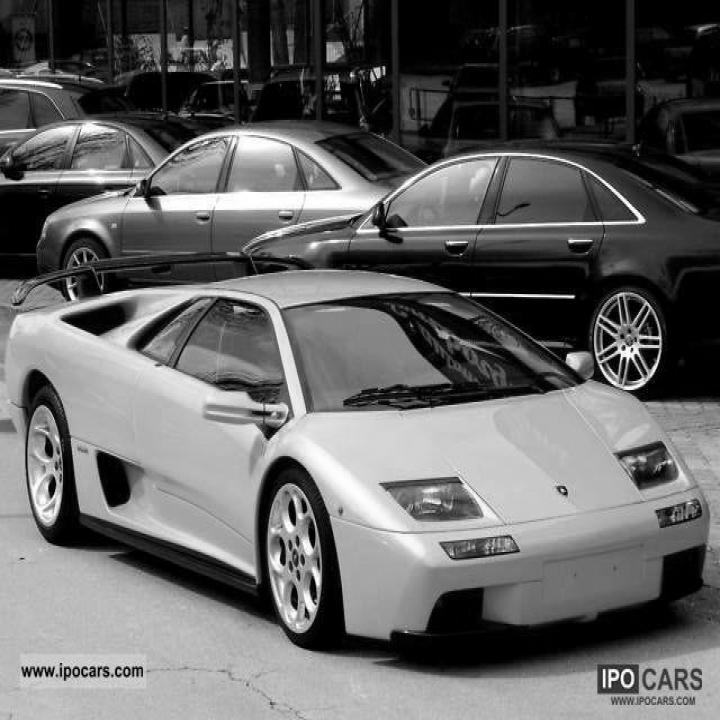car: (4, 258, 710, 652), (240, 144, 720, 401), (36, 119, 449, 302), (0, 112, 198, 282), (0, 77, 88, 158)
